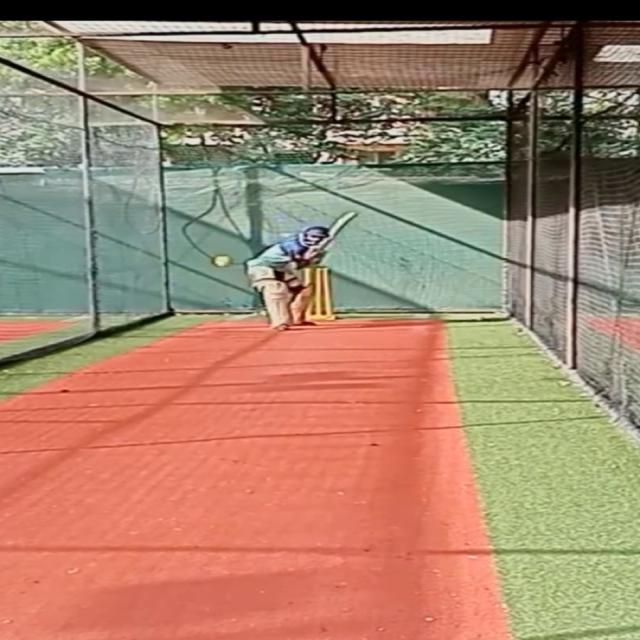ball: (214, 255, 233, 269)
stump: (304, 267, 336, 322)
